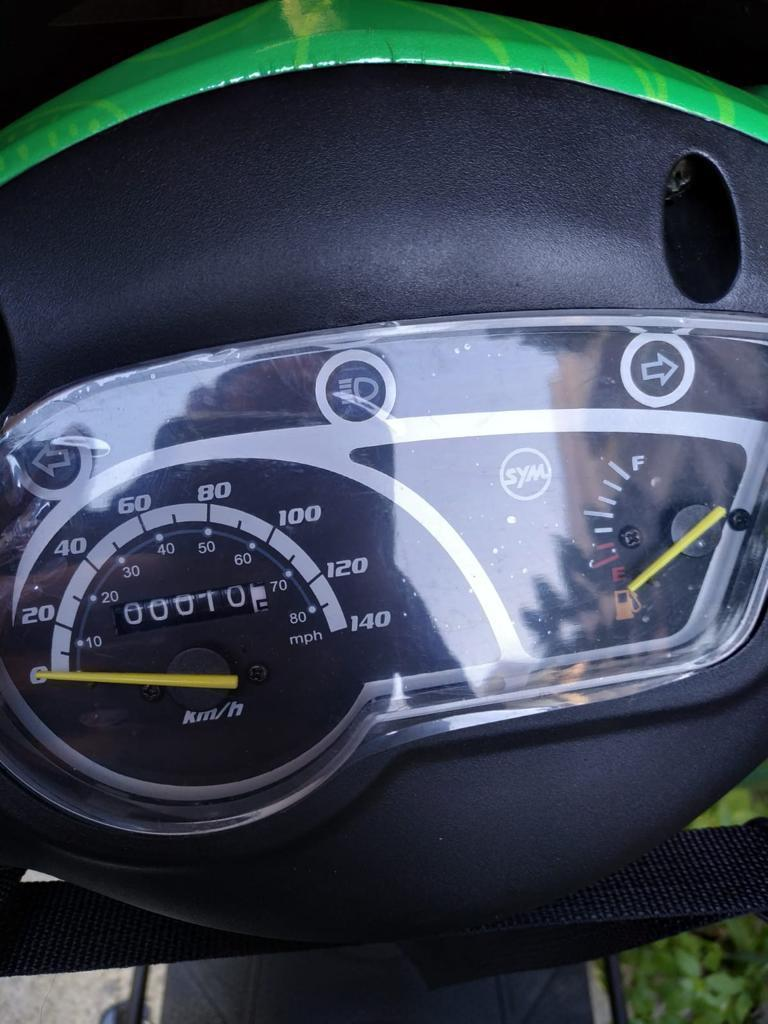0: (173, 591, 193, 616), (148, 596, 168, 621), (123, 600, 142, 625), (226, 583, 245, 607), (109, 589, 119, 603)
1: (205, 588, 215, 612)
5: (256, 598, 270, 616)
odometer: (108, 579, 270, 637)
